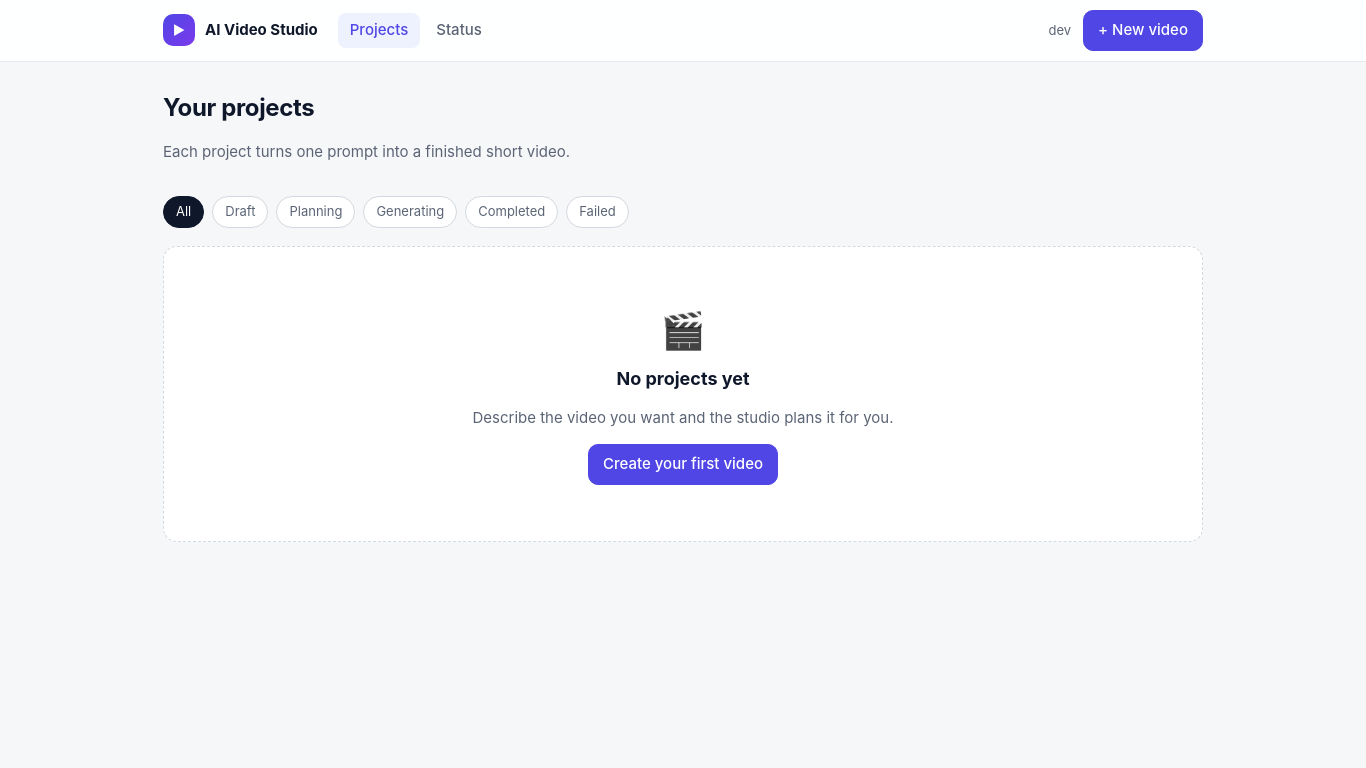
projects list › filters by status
This screenshot has width=1366, height=768.
Check: the heading "No projects yet" is shown, box x1=616 y1=368 x2=750 y2=388
Click the button "Failed" at coordinates (597, 212), box x1=566 y1=196 x2=629 y2=228
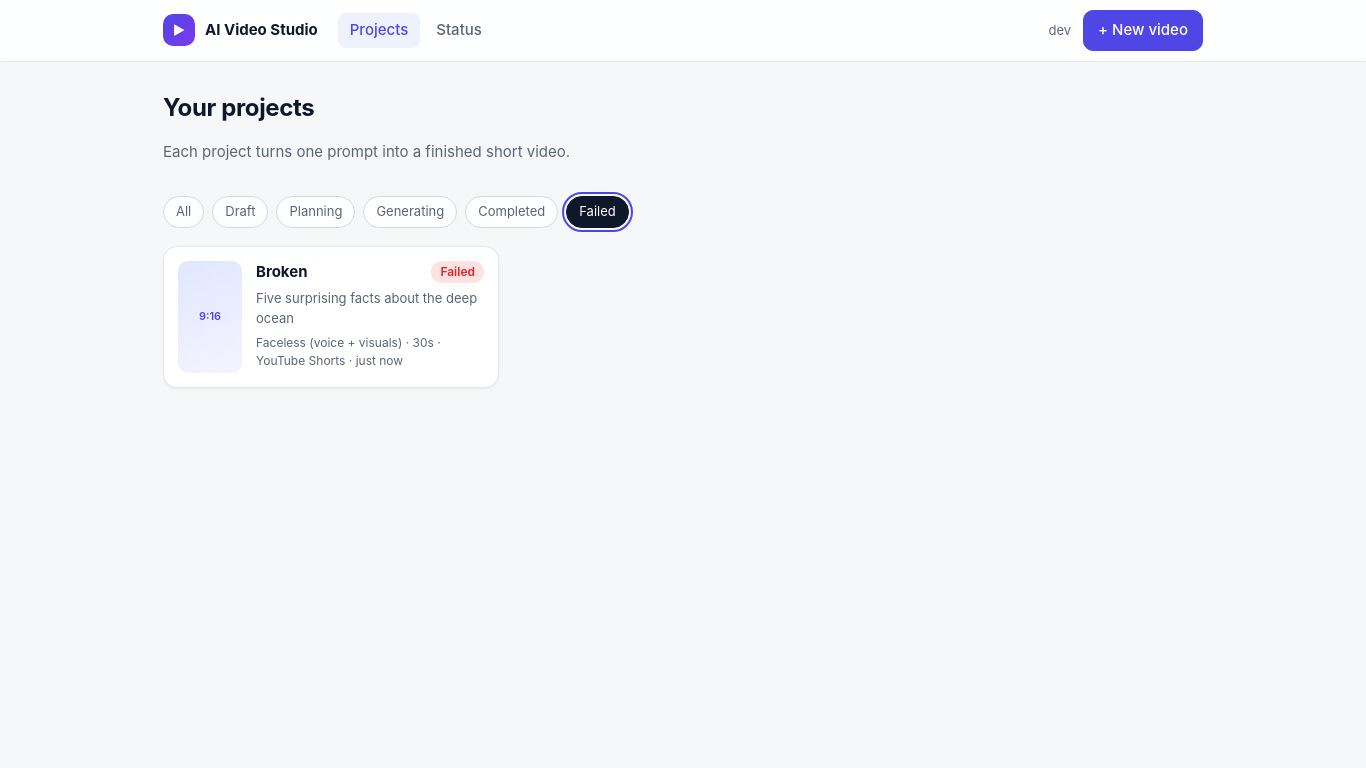
Check: the link "Broken" is shown, box x1=163 y1=246 x2=499 y2=388
